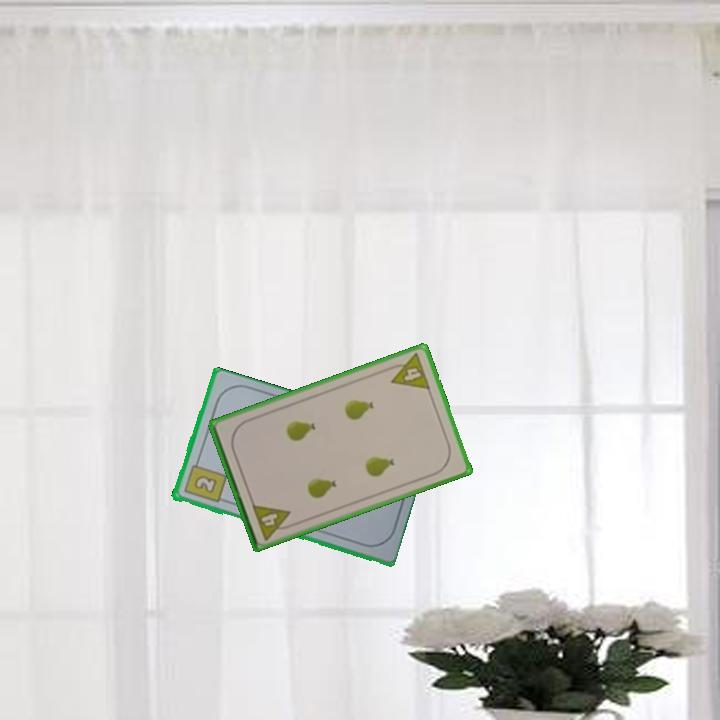2b: (180, 456, 229, 506)
4p: (383, 349, 433, 393), (248, 500, 297, 543)
